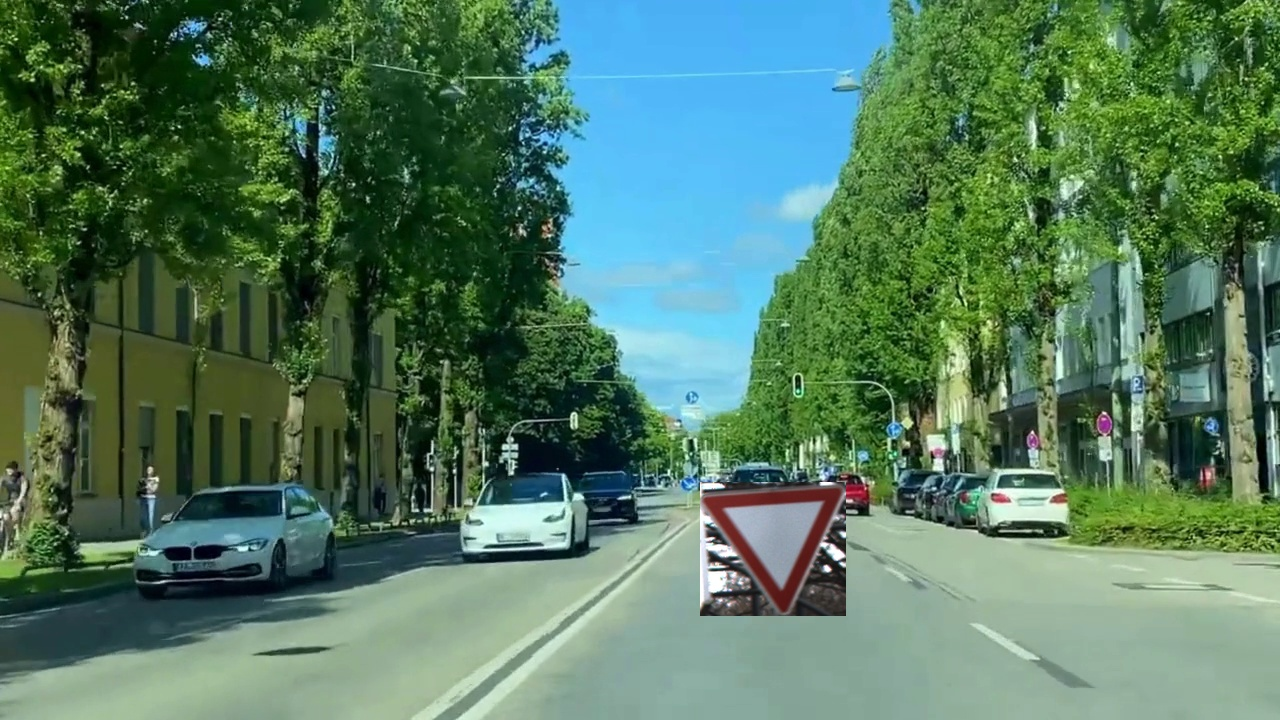Yield: (700, 482, 846, 616)
